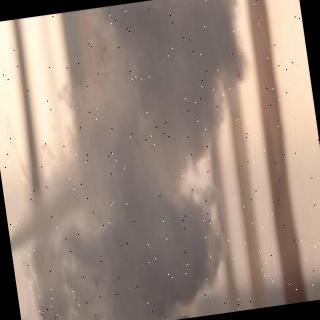smoke: (8, 0, 250, 320)
